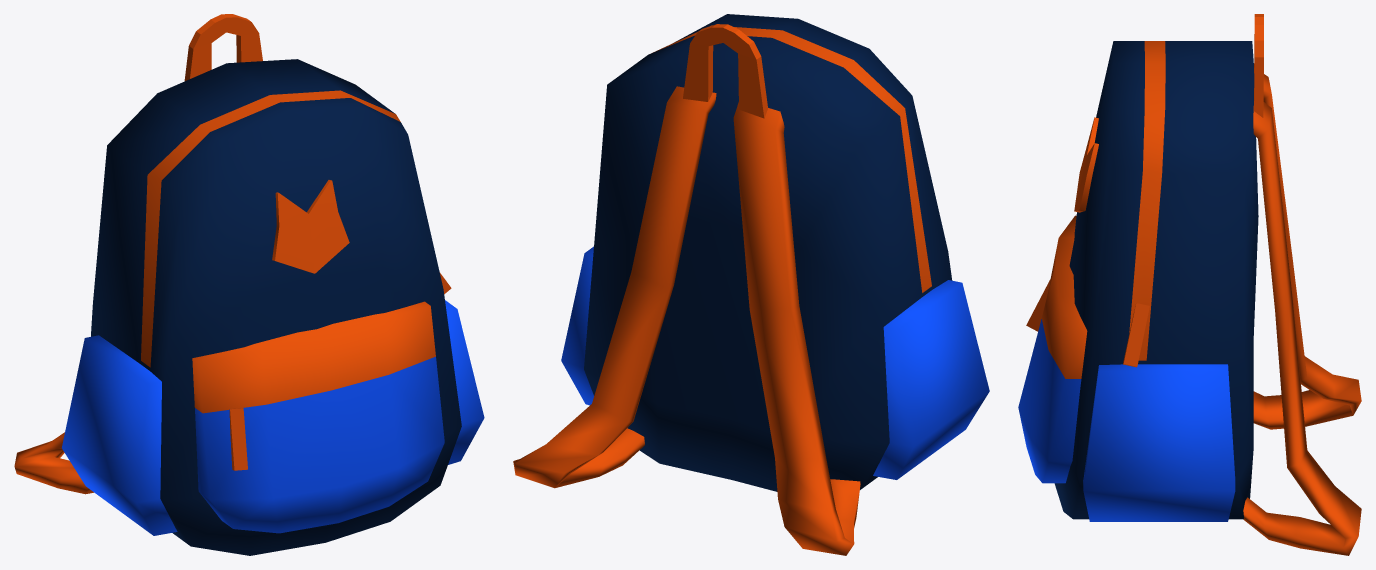
The model's file is Mochila.fbx.
3 renders of one model, left to right at view 1: azimuth 30°, elevation 25°; view 2: azimuth 150°, elevation 25°; view 3: azimuth 270°, elevation 25°, orthographic.
Parts seen in each view (by area): view 1: Mochila; view 2: Mochila; view 3: Mochila.
Boxes of the visible parts, left/top/right/bottom form: Mochila: left=14, top=14, right=484, bottom=555; Mochila: left=513, top=14, right=989, bottom=555; Mochila: left=1018, top=14, right=1361, bottom=555.
Size of the model in its own units: 34.71 by 43.19 by 29.18.
